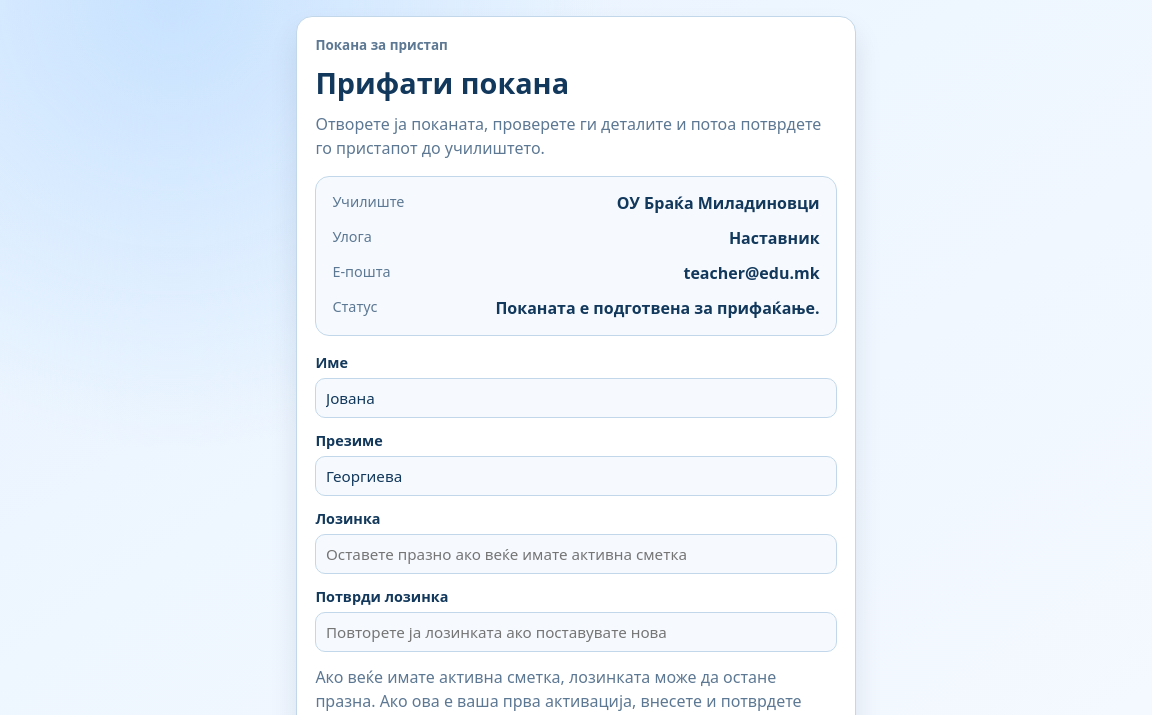
Test case: public invitation page loads from the FE route and accepts the invitation
Expected: the heading "Прифати покана" is shown, [315,63,569,102]
Expected: the text "ОУ Браќа Миладиновци" is shown, [617,191,820,215]
In the password field labelled "Лозинка": (576, 554) [315,534,837,574], type "password123"
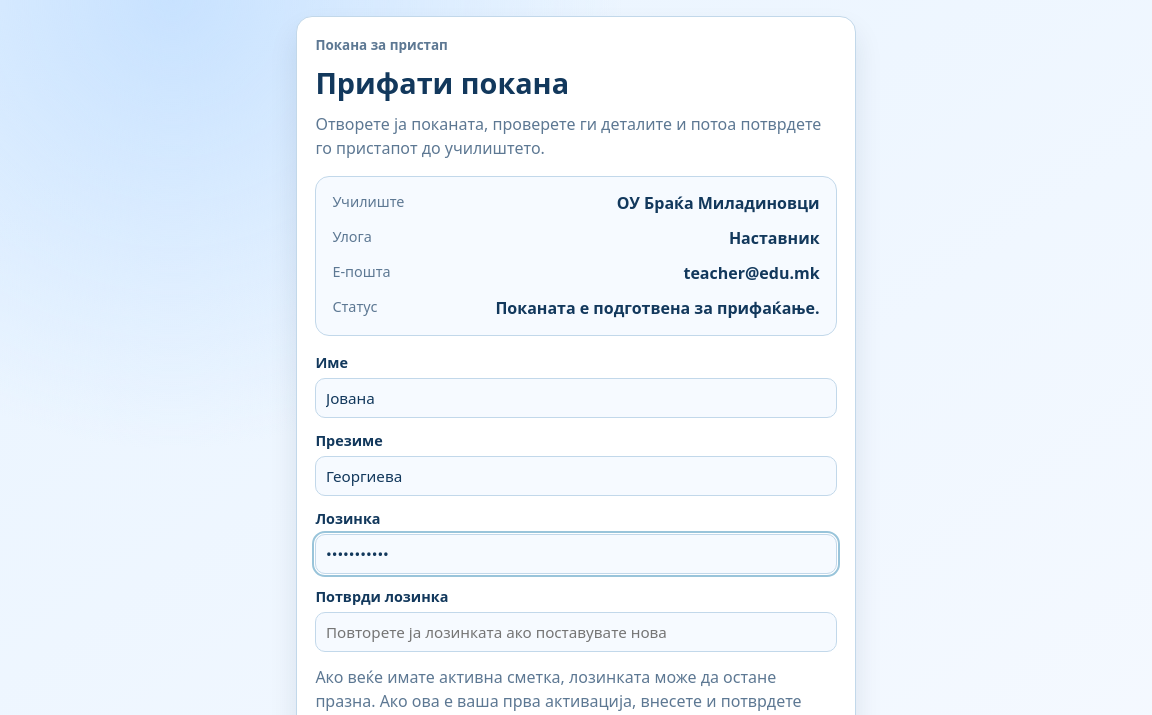
In the password field labelled "Потврди лозинка": (576, 632) [315,612,837,652], type "password123"
(page scrolled)
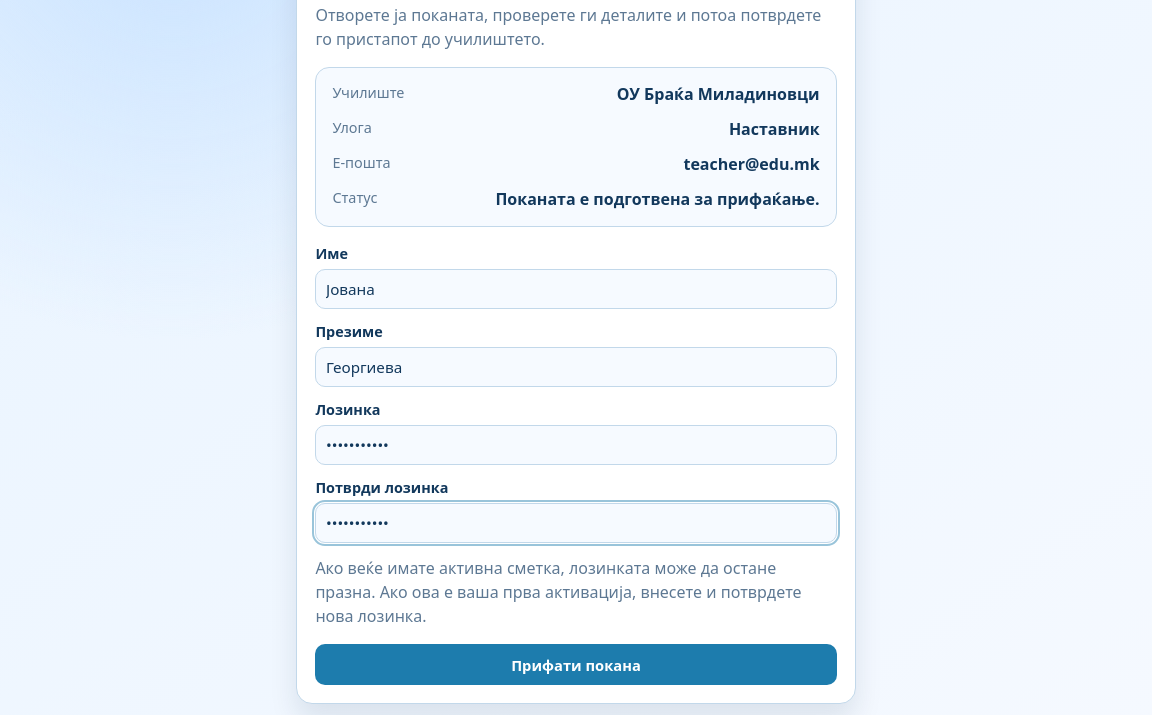
Click the button "Прифати покана": (576, 665) [315,644,837,685]
(page scrolled)
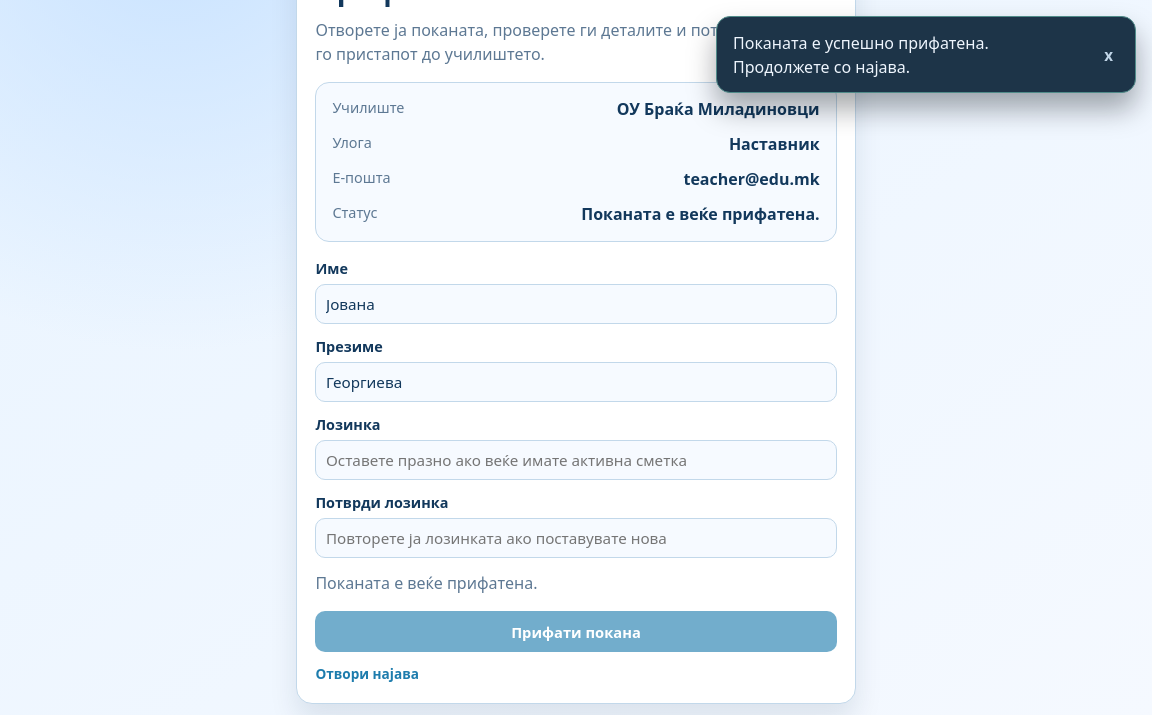
Expected: the text "Поканата е веќе прифатена." is shown 2 times, [581,202,820,226]; [315,572,538,594]
Result: the text "Поканата е успешно прифатена. Продолжете со најава." is shown at [733,32,989,78]
